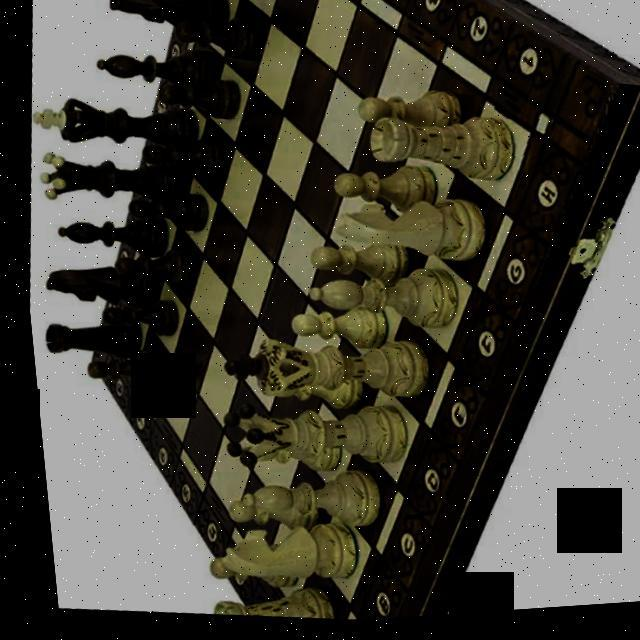chess-table-corners: (486, 110, 556, 174), (99, 316, 152, 384)
